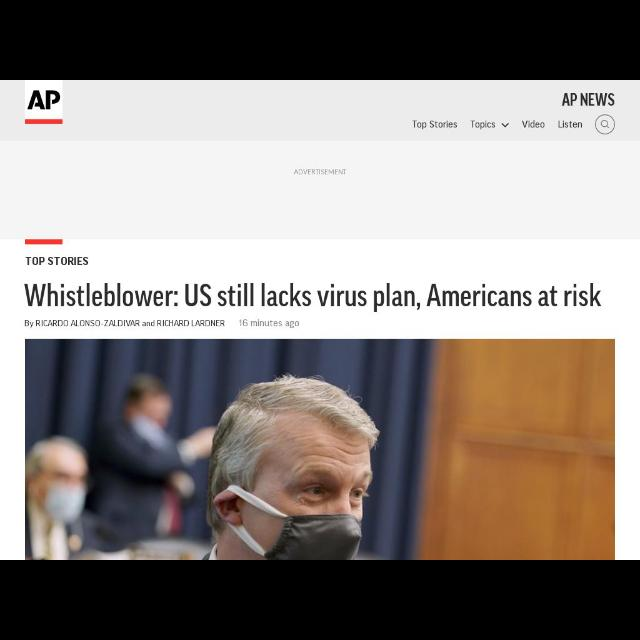icon: (595, 115, 615, 133), (500, 121, 510, 129)
iframe: (2, 142, 636, 235)
image: (26, 340, 614, 558), (26, 80, 62, 124)
spinner: (466, 118, 512, 132)
text: (23, 282, 605, 312), (23, 318, 225, 328), (562, 91, 616, 107), (239, 318, 301, 330), (24, 253, 90, 264), (412, 118, 458, 130), (521, 118, 545, 130), (470, 120, 498, 130), (558, 120, 582, 130)
